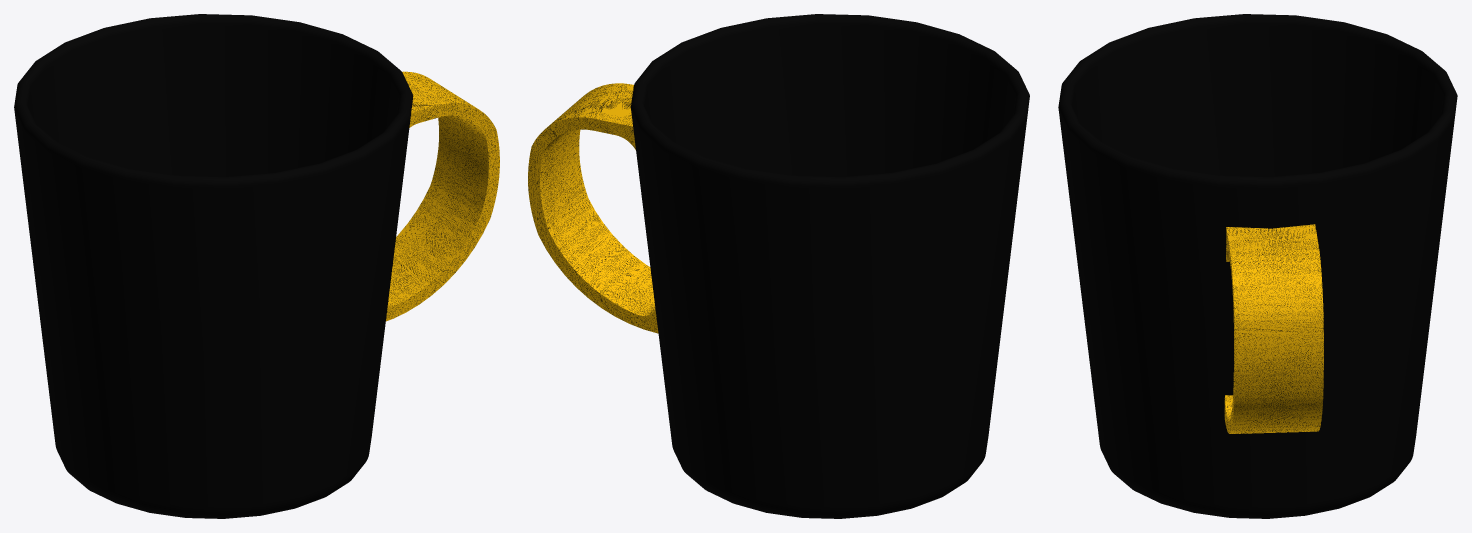
Rendered from mug_13_origin_gt_1.dae.
The picture shows the model from 3 angles, left to right: view 1: azimuth 30°, elevation 25°; view 2: azimuth 150°, elevation 25°; view 3: azimuth 270°, elevation 25°; orthographic projection.
Parts seen in each view (by area): view 1: group_0, Group_1525; view 2: group_0, Group_1525; view 3: group_0, Group_1525.
Part boxes in pixels (x1=…): group_0: x1=14, y1=14, x2=413, y2=518; Group_1525: x1=386, y1=71, x2=499, y2=321; group_0: x1=630, y1=14, x2=1029, y2=518; Group_1525: x1=528, y1=83, x2=658, y2=333; group_0: x1=1058, y1=14, x2=1457, y2=518; Group_1525: x1=1224, y1=224, x2=1323, y2=433.
Size of the model in its own units: 4.56 by 3.52 by 3.54.
